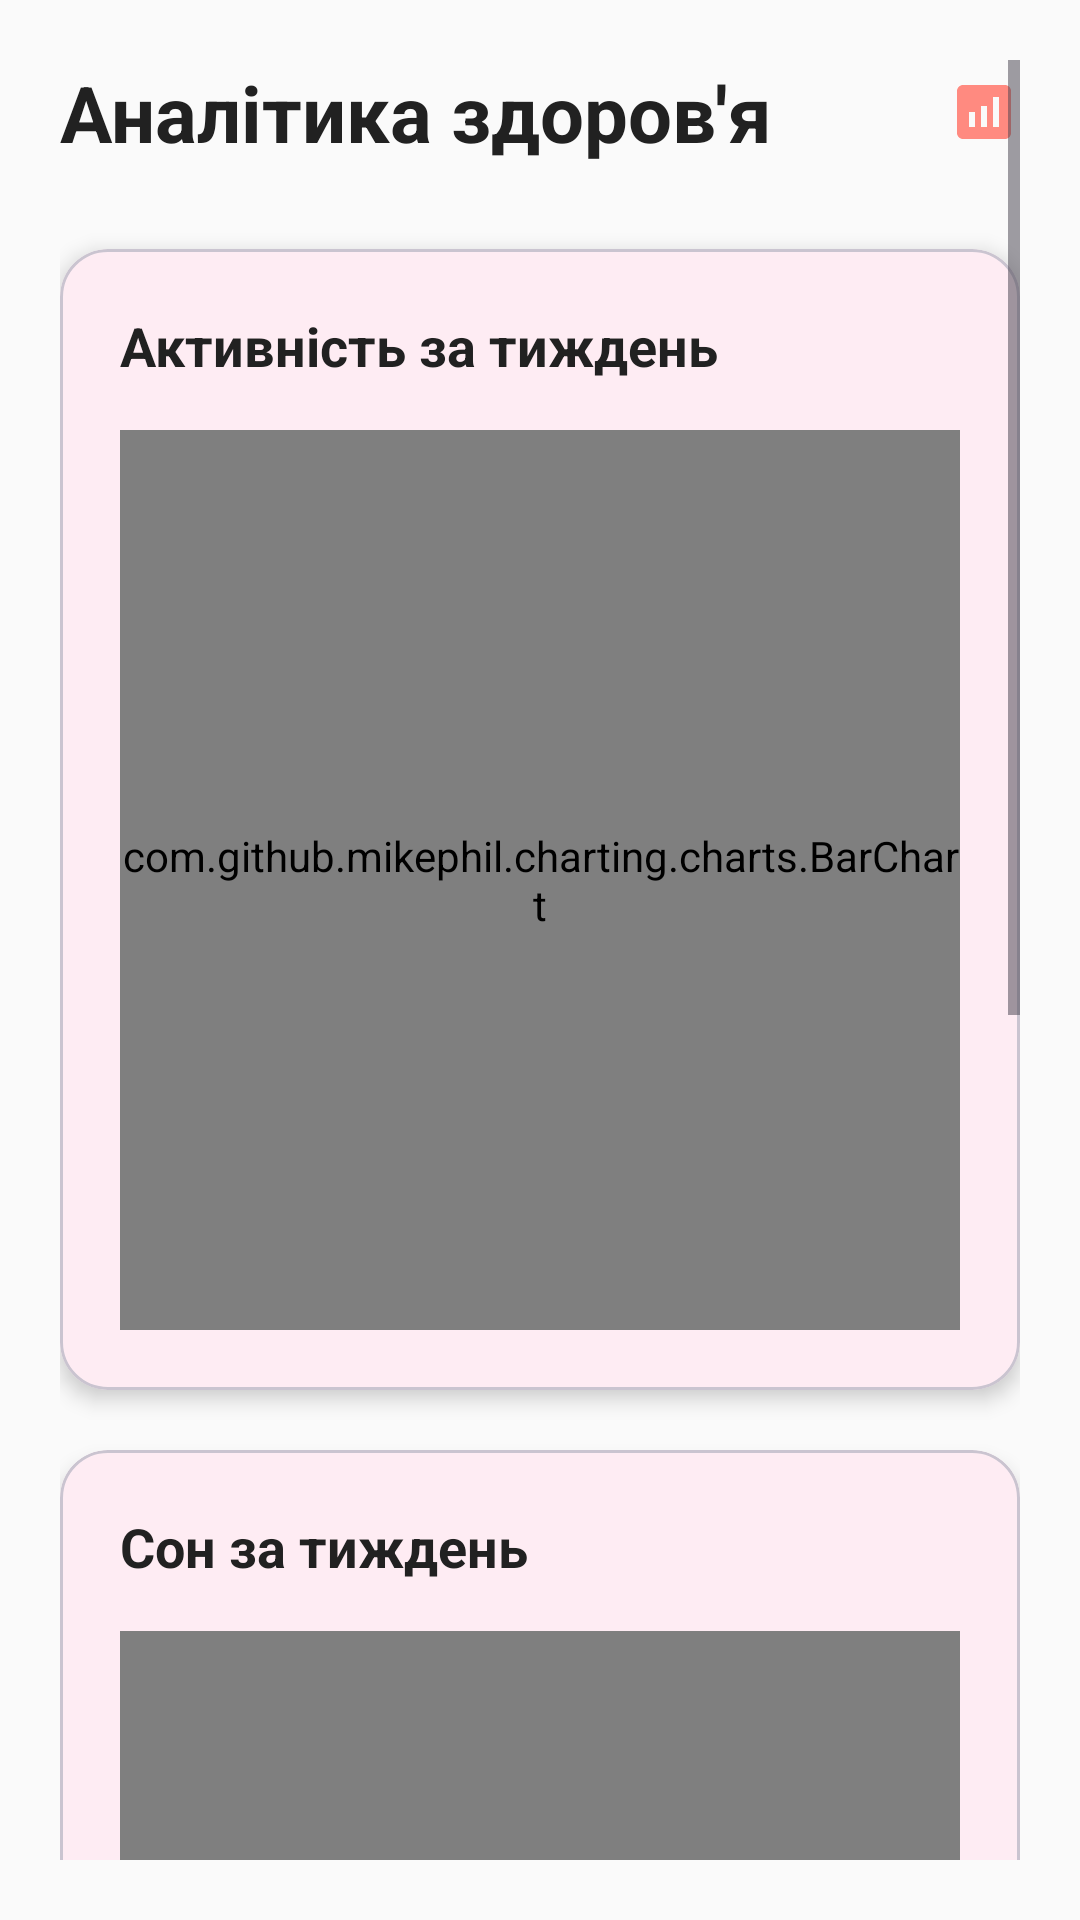

Screen size 1080w x 1920h. Icon name, then its center in pixels as (x=x, y=y):
Іконка аналітики: (x=988, y=112)
